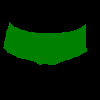mutande: (3, 21, 87, 65)
